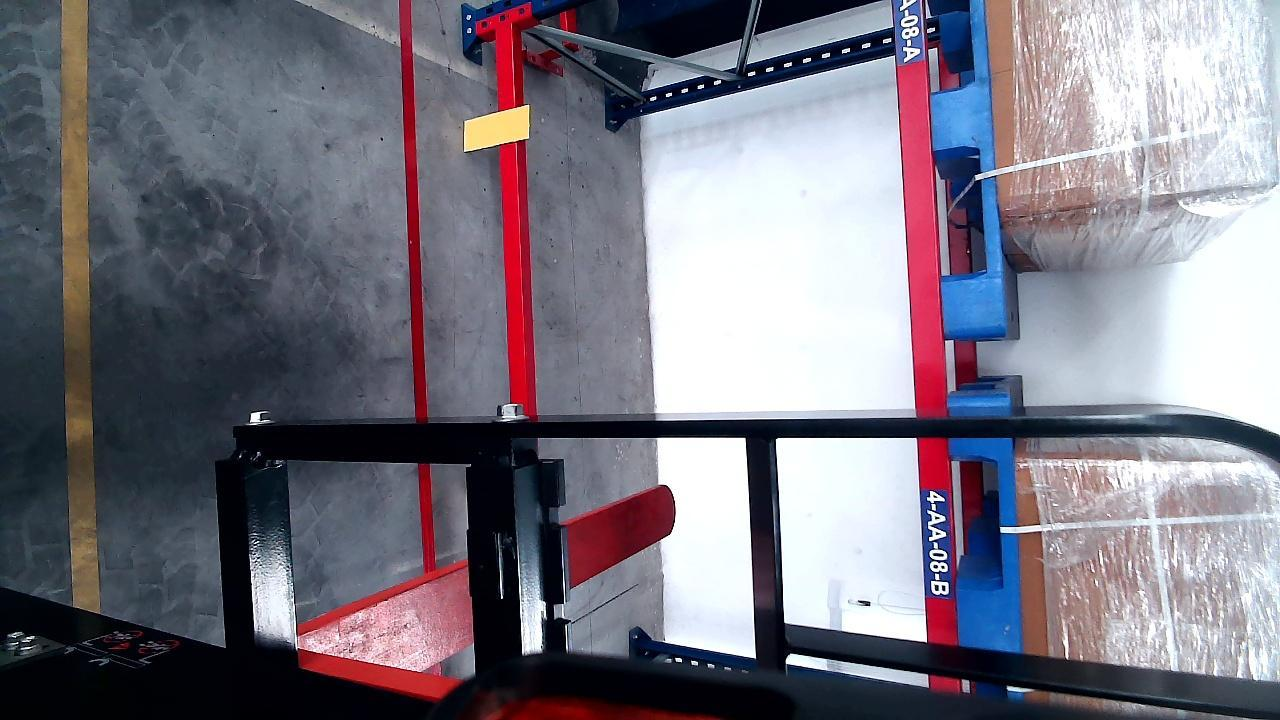red_line: (398, 0, 431, 421)
yellow_line: (59, 0, 99, 614)
